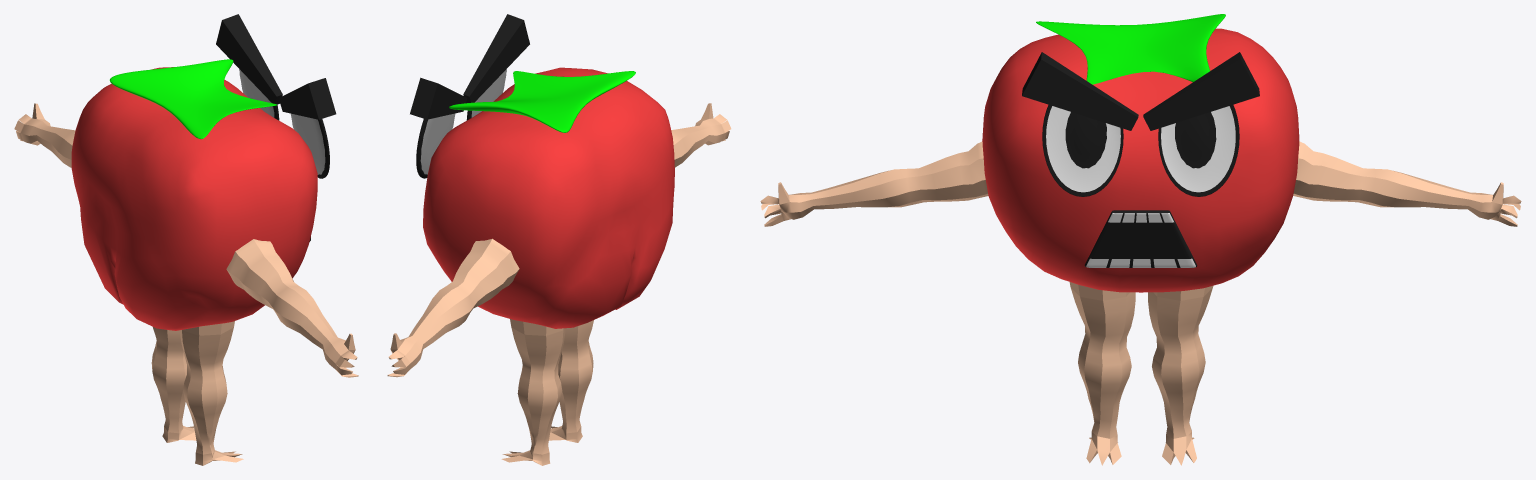
The model's file is tomato.fbx.
3 views of the same model, side by side, from view 1: azimuth 30°, elevation 25°; view 2: azimuth 150°, elevation 25°; view 3: azimuth 270°, elevation 25° (orthographic). The views are drawn at different scales.
Visible parts, largest first — view 1: tomato; view 2: tomato; view 3: tomato.
Boxes of the visible parts, bbox=[...] form: tomato: bbox=[14, 14, 358, 465]; tomato: bbox=[387, 14, 731, 465]; tomato: bbox=[760, 14, 1521, 465].
Size of the model in its own units: 219 by 424 by 662.
